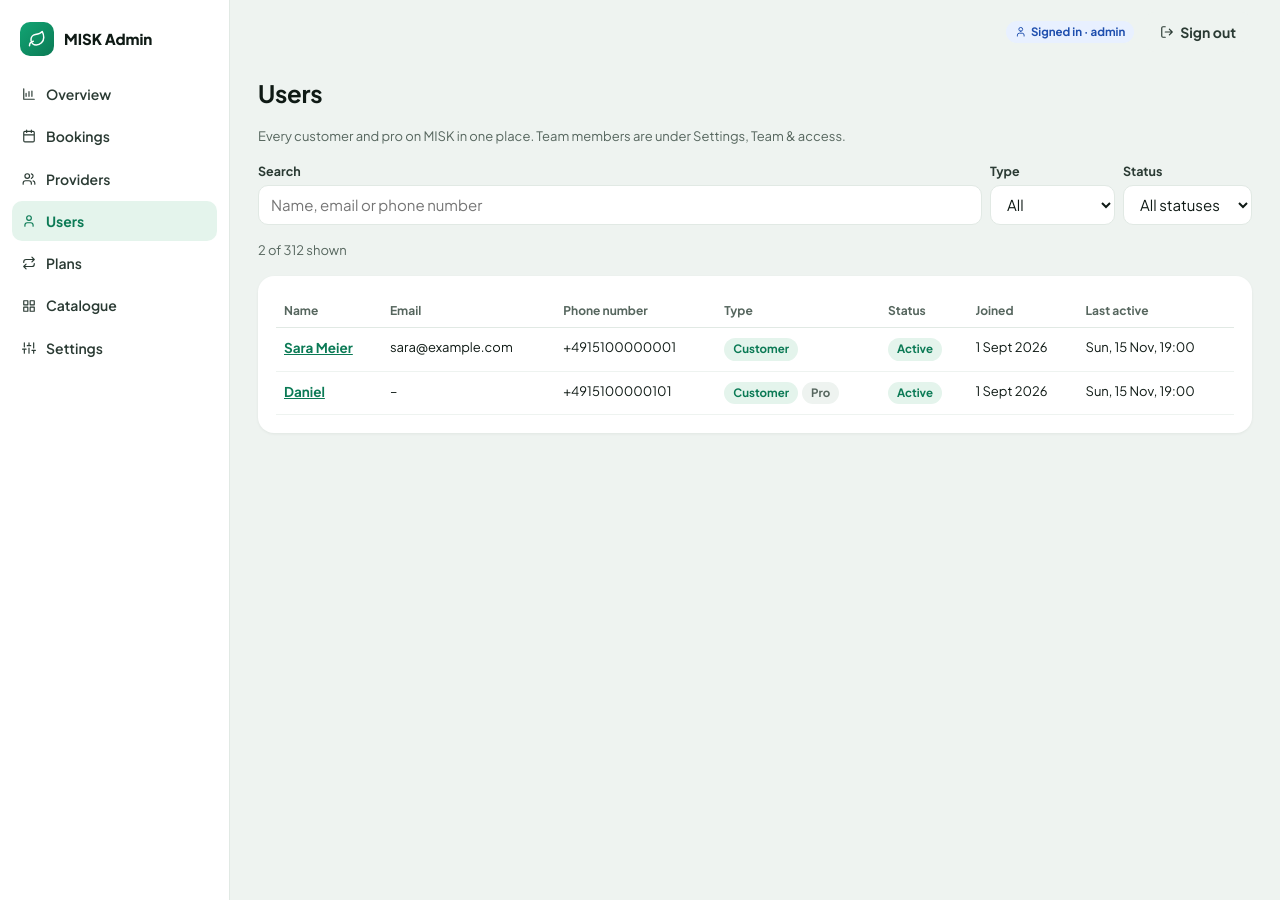
Scenario: the Users page (D65) › opens a user with their details, bookings, plans and, for a pro, rating and documents
The width and height of the screenshot is (1280, 900).
Click the button "Daniel": (304,392) [284,382,325,401]
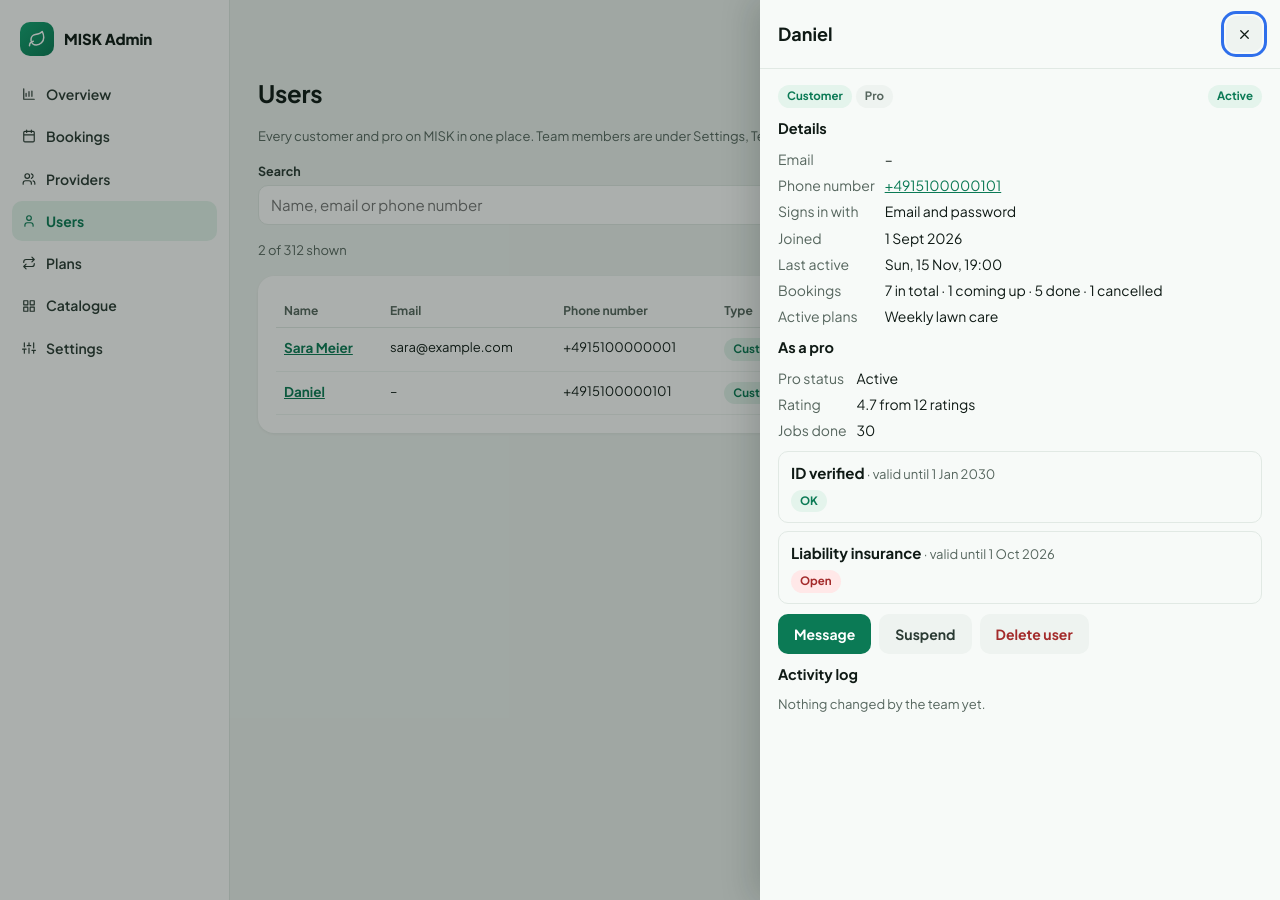
Result: the dialog "Daniel" shows "7 in total · 1 coming up · 5 done · 1 cancelled" at [885,281,1163,299]
Result: the dialog "Daniel" shows "Weekly lawn care" at [885,308,998,326]
Result: the dialog "Daniel" shows "4.7 from 12 ratings" at [856,395,975,413]
